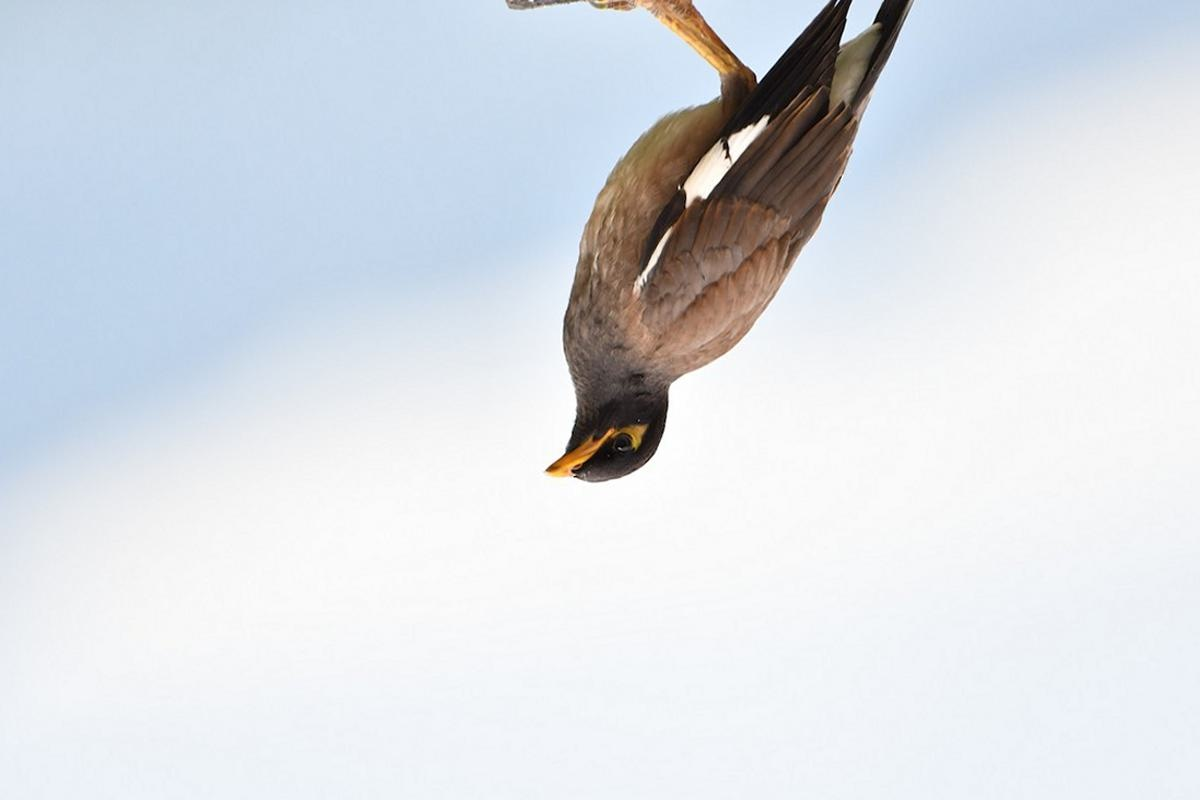myna: (519, 6, 935, 514)
